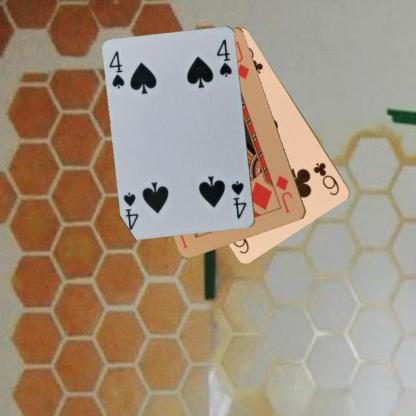4s: (229, 178, 248, 222), (107, 49, 126, 90)
6c: (311, 160, 341, 197)
Jd: (273, 173, 294, 214)
